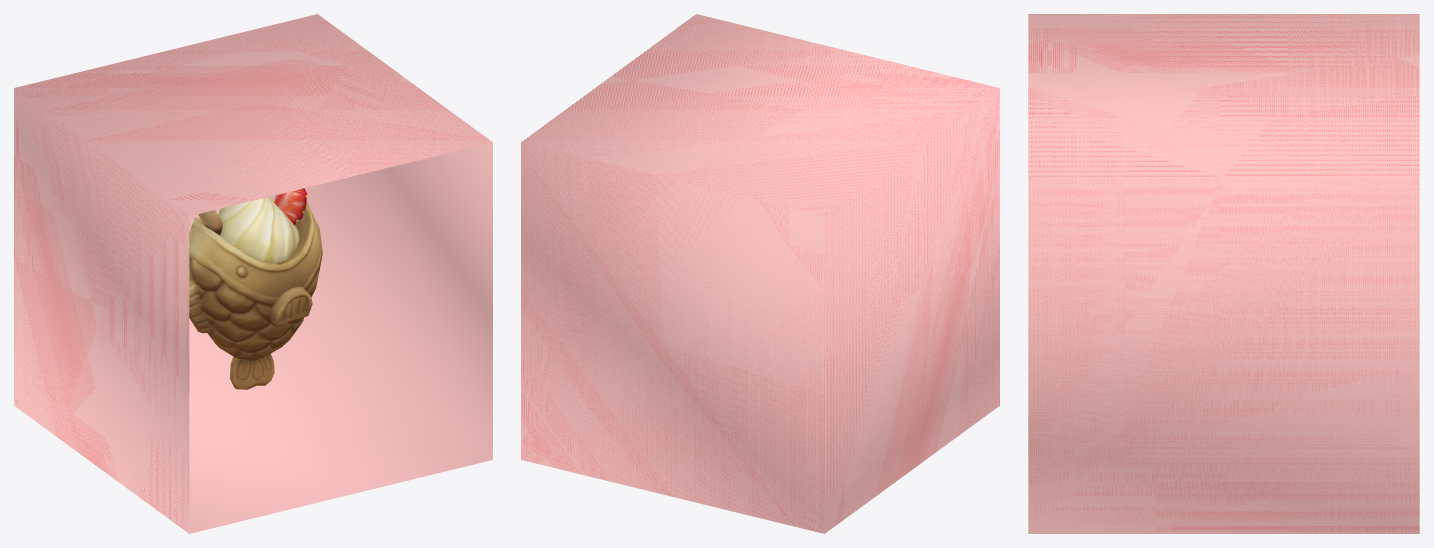
The picture shows the model from 3 angles, left to right: view 1: azimuth 30°, elevation 25°; view 2: azimuth 150°, elevation 25°; view 3: azimuth 270°, elevation 25°; orthographic projection. The views are drawn at different scales.
Visible parts, largest first — view 1: pCube1, pCube2, fishcone_lo1; view 2: pCube1, pCube2; view 3: pCube1, pCube2.
Boxes of the visible parts, left/top/right/bottom form: pCube1: left=14, top=14, right=492, bottom=533; pCube2: left=14, top=14, right=489, bottom=528; fishcone_lo1: left=189, top=188, right=322, bottom=389; pCube1: left=521, top=14, right=999, bottom=533; pCube2: left=521, top=15, right=999, bottom=533; pCube1: left=1028, top=14, right=1419, bottom=533; pCube2: left=1028, top=14, right=1419, bottom=533.
Bounding box in the file's own units: 4.06 × 4.06 × 4.06.
Materials: 3 (1 with a texture image).
